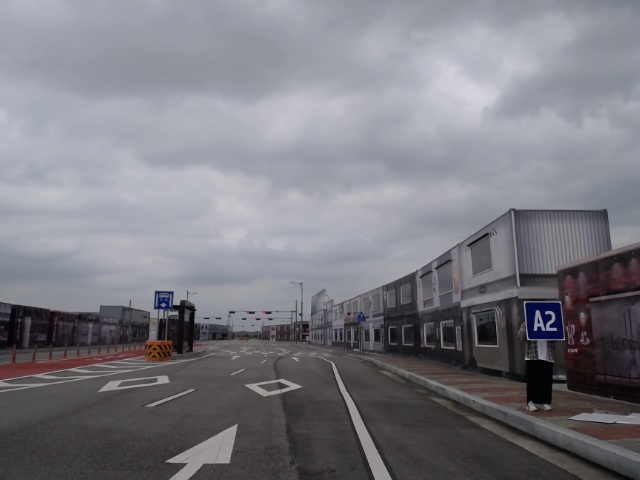delivery_a2: (524, 301, 565, 340)
